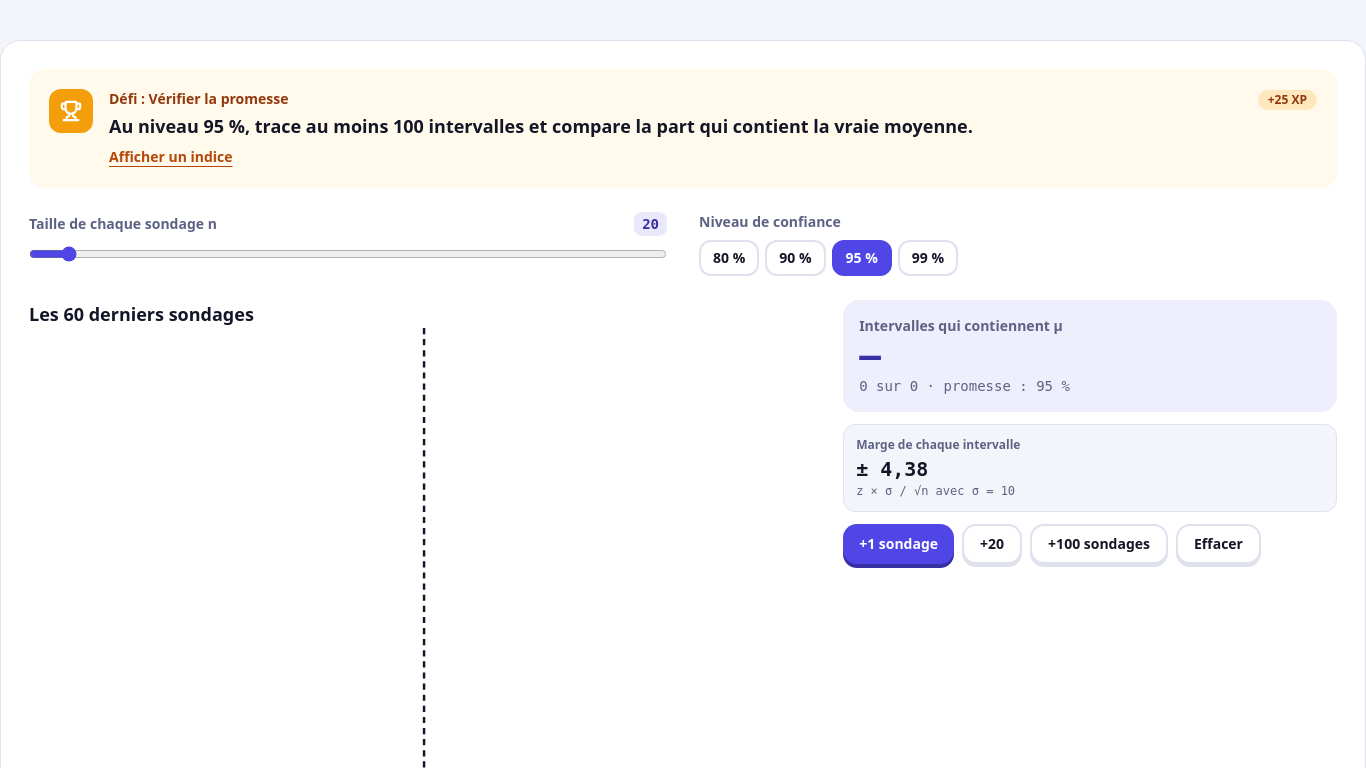
Test case: nouveaux labos › CiLab : 100 sondages valident ci-coverage
Click the button "+100 sondages": [1099, 544] box [1030,524,1168,564]
Wait 600 ms
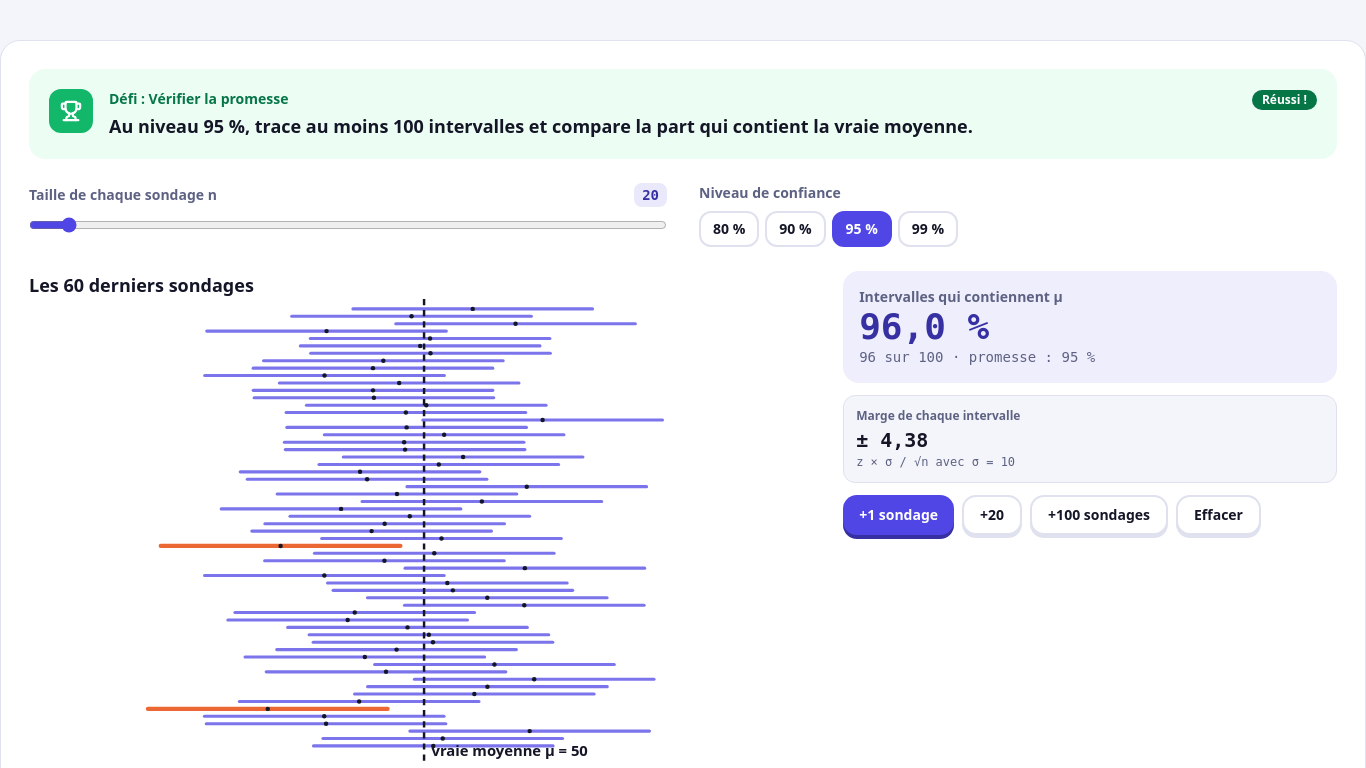
expect the text "96 sur 100 · promesse : 95 %" is shown: met, box [859,349,1095,365]
